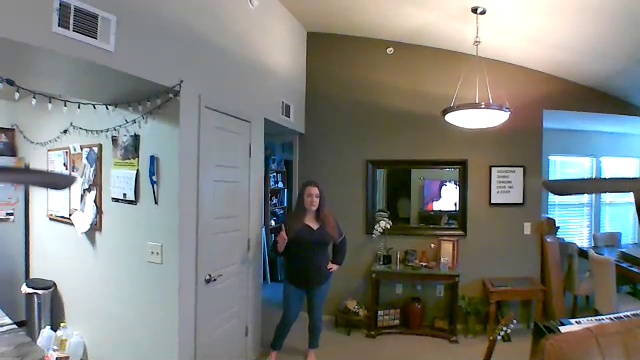up: (275, 222, 290, 243)
